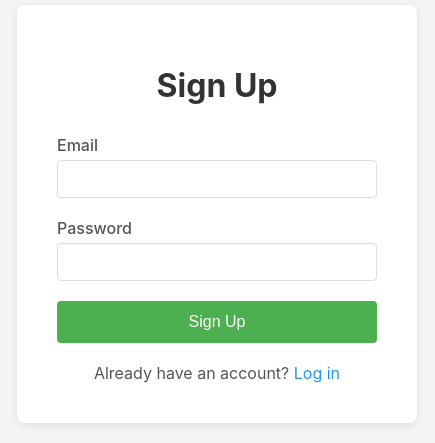
it: SignupPage › shows loading state during signup
The width and height of the screenshot is (435, 443).
Type "test@example.com" into the field labelled "Email" at (217, 179), box left=57, top=160, right=377, bottom=198
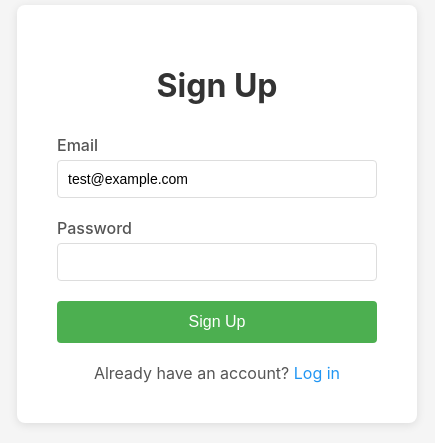
Type "password123" into the password field labelled "Password" at (217, 262), box left=57, top=243, right=377, bottom=281
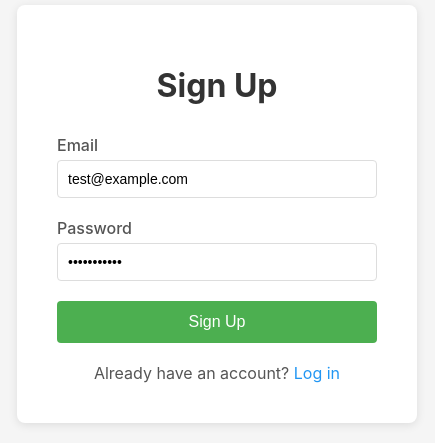
Click the button "Sign Up" at (217, 322), box left=57, top=301, right=377, bottom=343
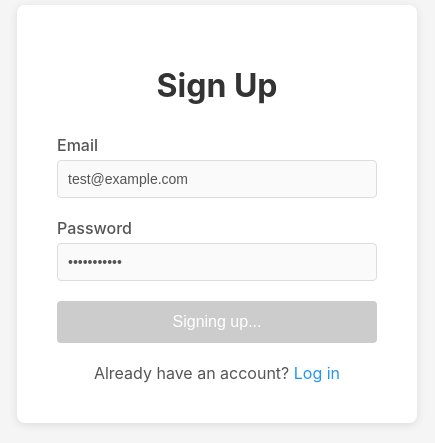
Check: the button "Signing up..." is disabled, box left=57, top=301, right=377, bottom=343
